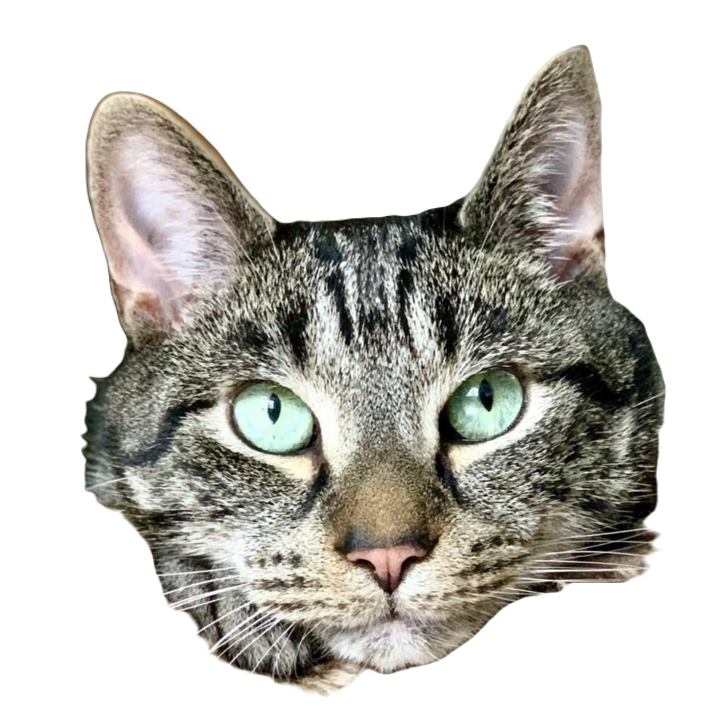Cat: (78, 40, 675, 698)
